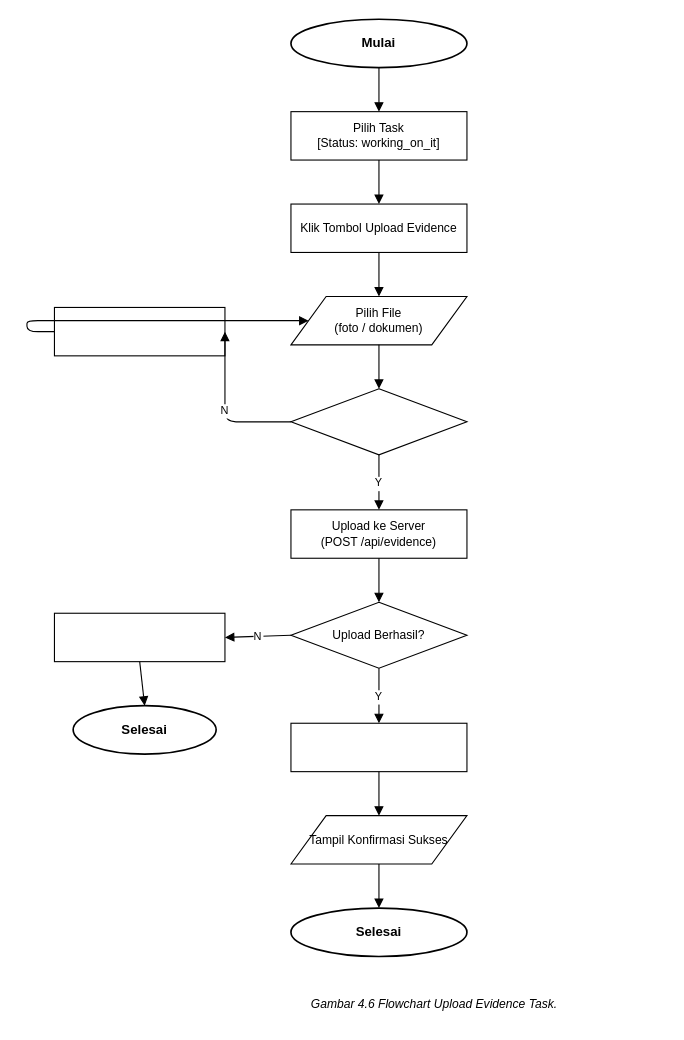
Some shapes in this 684 by 1040 pixel diagram are drawn without their labels. The shapes that lost their labels are listed below. From the top down, each one's centre as x and y in pixels, then its label:
[139,331]: Tampil Error Validasi File
[378,421]: File Valid? (ukuran & tipe)
[139,637]: Tampil Error Upload
[378,747]: Simpan Record di DB
